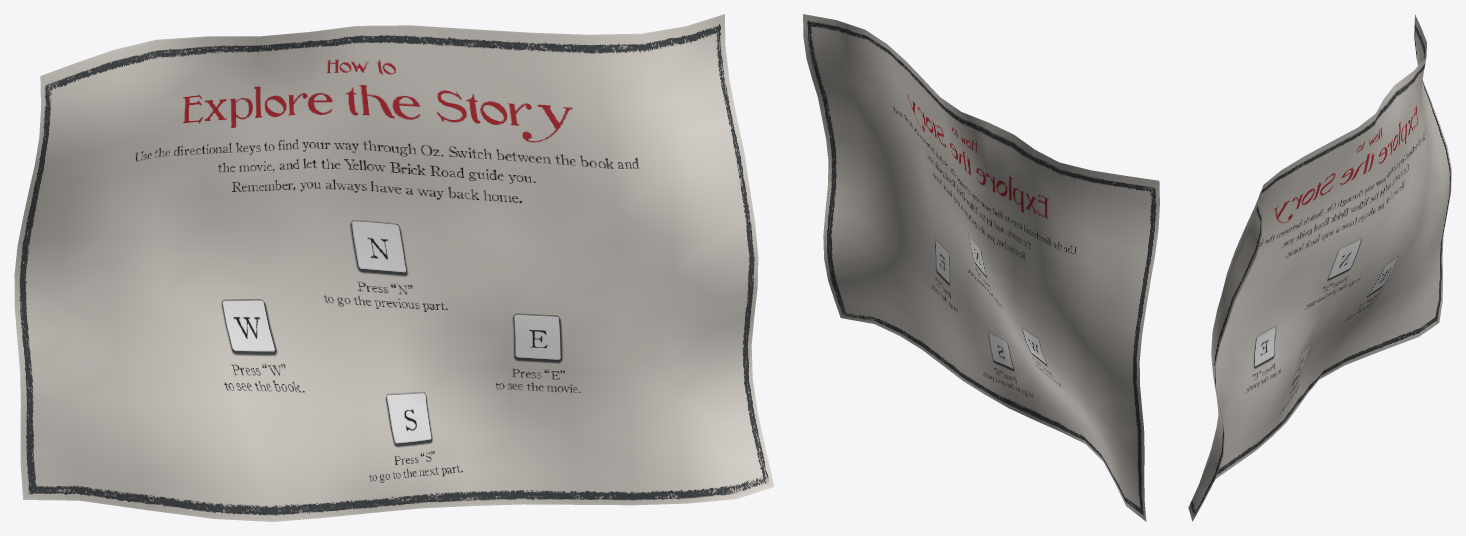
Rendered from Explorarhistoria.glb.
3 views of the same model, side by side, from view 1: azimuth 30°, elevation 25°; view 2: azimuth 150°, elevation 25°; view 3: azimuth 270°, elevation 25° (orthographic). The views are drawn at different scales.
Visible parts, largest first — view 1: About.001; view 2: About.001; view 3: About.001.
Part boxes in pixels (x1,y1,x2,y2): About.001: (14,14,774,521); About.001: (803,14,1159,521); About.001: (1188,14,1451,521).
Bounding box in the file's own units: 0.2013 × 0.1456 × 0.1125.
Materials: 1 (1 with a texture image).
